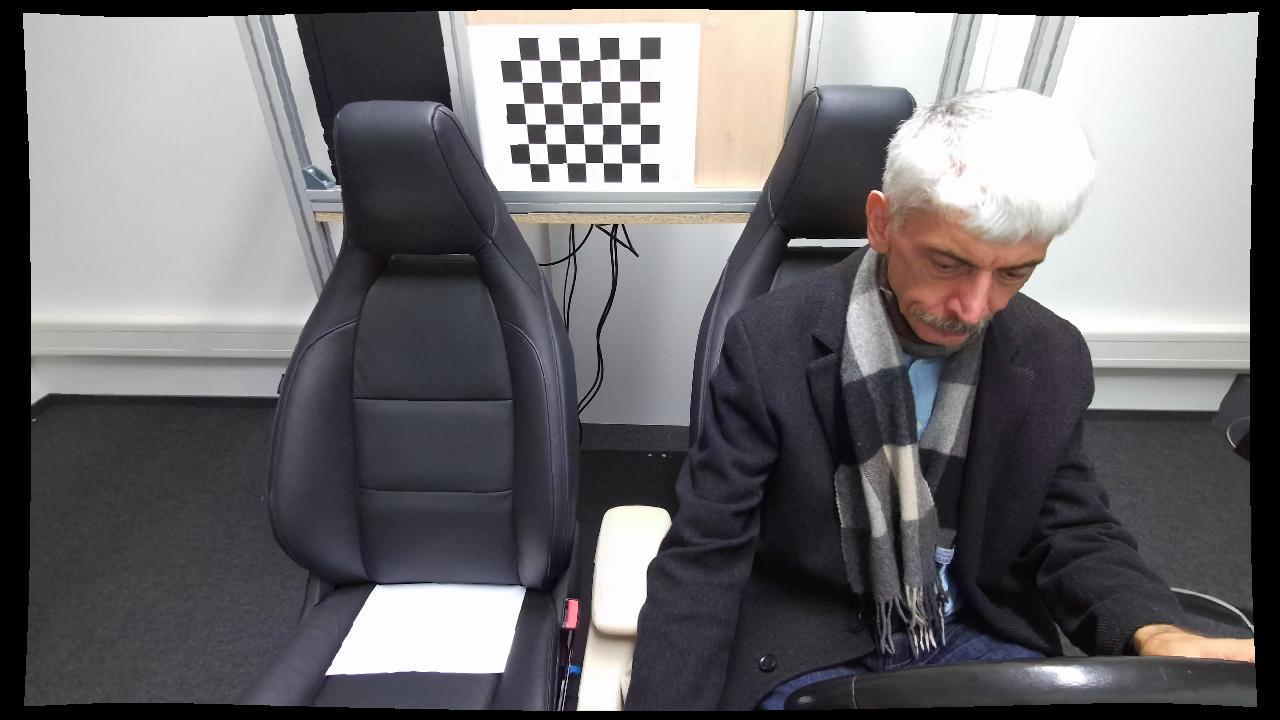Distracted: (619, 77, 1166, 714)
